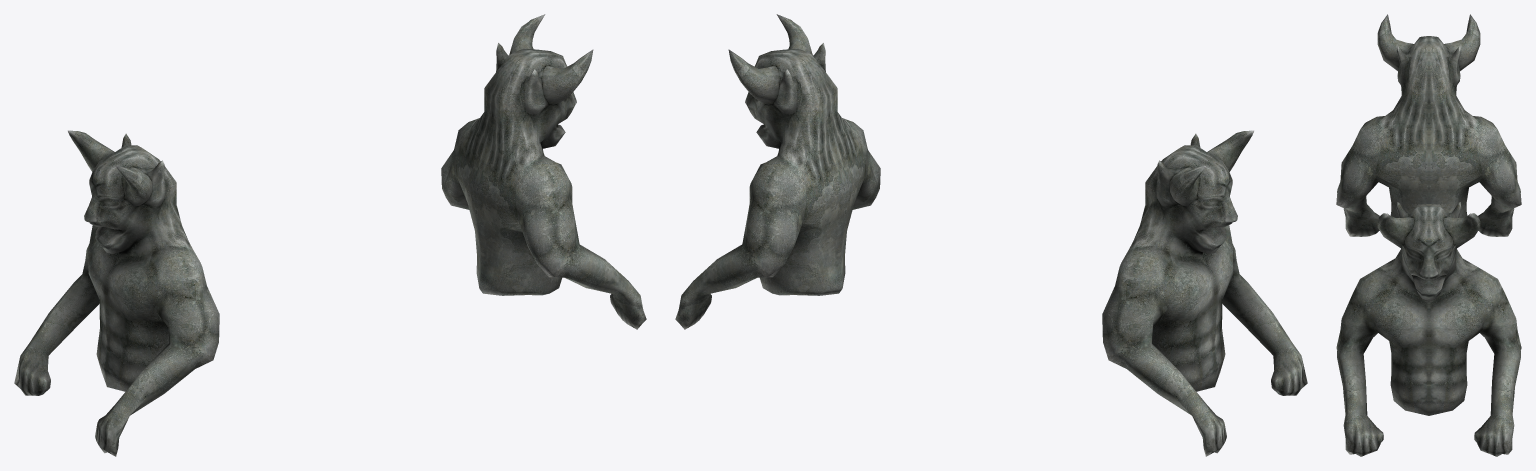
The model's file is AltarStatues_MDL.fbx.
3 renders of one model, left to right at view 1: azimuth 30°, elevation 25°; view 2: azimuth 150°, elevation 25°; view 3: azimuth 270°, elevation 25°, orthographic. The views are drawn at different scales.
Parts seen in each view (by area): view 1: TunnelBigDoorway.012; view 2: TunnelBigDoorway.012; view 3: TunnelBigDoorway.012.
Boxes of the visible parts, x1,y1,x2,y2 form: TunnelBigDoorway.012: (14,14,646,456); TunnelBigDoorway.012: (675,14,1307,456); TunnelBigDoorway.012: (1336,14,1521,456).
Bounding box in the file's own units: 368 × 175 × 127.
